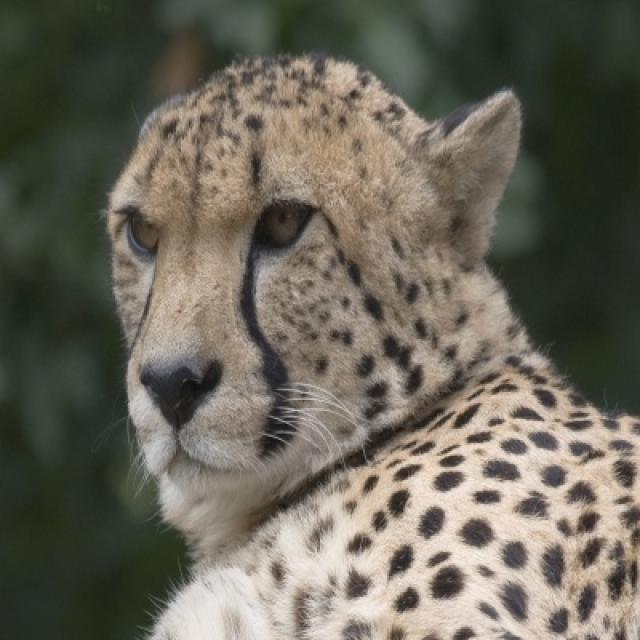Cheetah: (102, 54, 638, 637)
